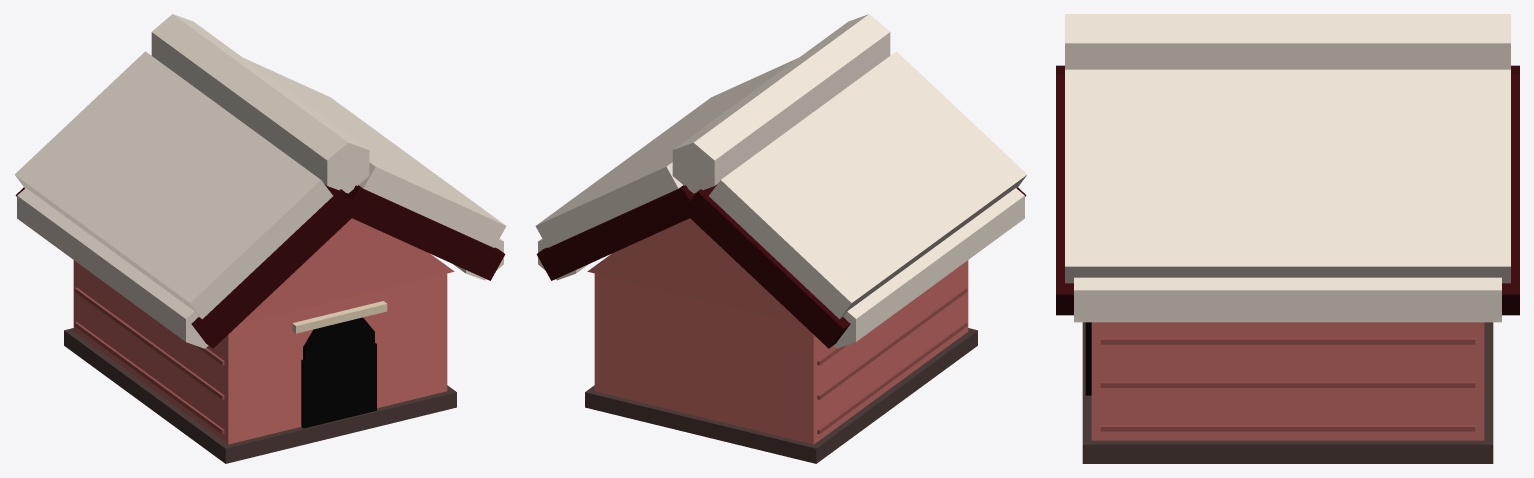
File: rs_doghouse.glb
3 renders of one model, left to right at view 1: azimuth 30°, elevation 25°; view 2: azimuth 150°, elevation 25°; view 3: azimuth 270°, elevation 25°, orthographic. The views are drawn at different scales.
Parts seen in each view (by area): view 1: doghouse; view 2: doghouse; view 3: doghouse.
Part boxes in pixels (x1=…): doghouse: x1=14, y1=14, x2=506, y2=463; doghouse: x1=535, y1=14, x2=1027, y2=463; doghouse: x1=1056, y1=14, x2=1519, y2=463.
Bounding box in the file's own units: 2.61 × 2.34 × 2.6.
